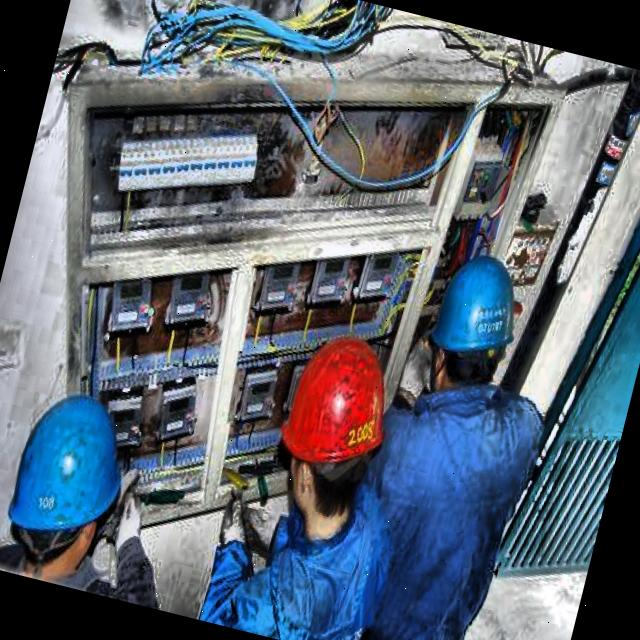helmet: (251, 321, 413, 546), (0, 363, 151, 591), (413, 237, 542, 412)
